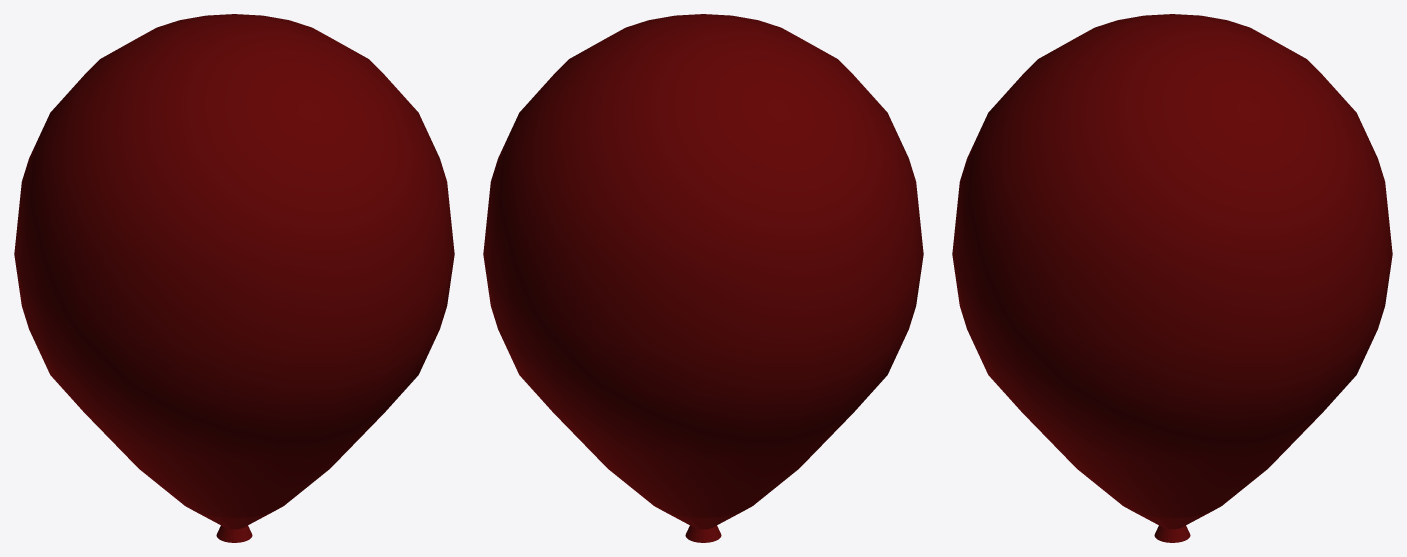
File: ballon.FBX
The picture shows the model from 3 angles, left to right: view 1: azimuth 30°, elevation 25°; view 2: azimuth 150°, elevation 25°; view 3: azimuth 270°, elevation 25°; orthographic projection.
Visible parts, largest first — view 1: Sphere001; view 2: Sphere001; view 3: Sphere001.
Boxes of the visible parts, box(x1,y1,x2,y2) form: Sphere001: box(14, 14, 454, 542); Sphere001: box(483, 14, 923, 542); Sphere001: box(952, 14, 1392, 542).
Size of the model in its own units: 0.7078 by 0.8895 by 0.7078.
